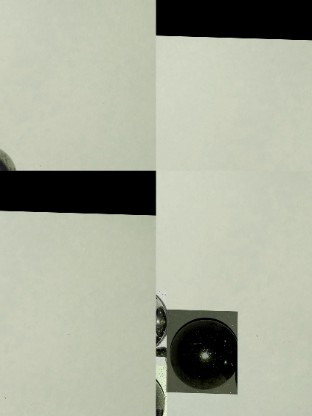ironball: (166, 309, 238, 394), (156, 289, 166, 360), (155, 365, 167, 415)
